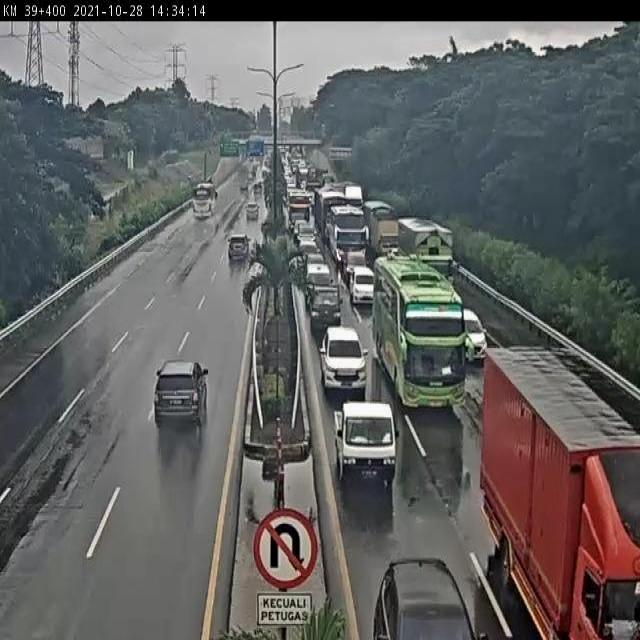Bus: (372, 251, 468, 412), (328, 206, 368, 262), (189, 180, 221, 222)
Car: (334, 398, 396, 483), (150, 359, 209, 438), (321, 328, 369, 398), (305, 282, 345, 332), (348, 265, 376, 308), (230, 230, 252, 264)
Truck: (481, 344, 640, 640)
